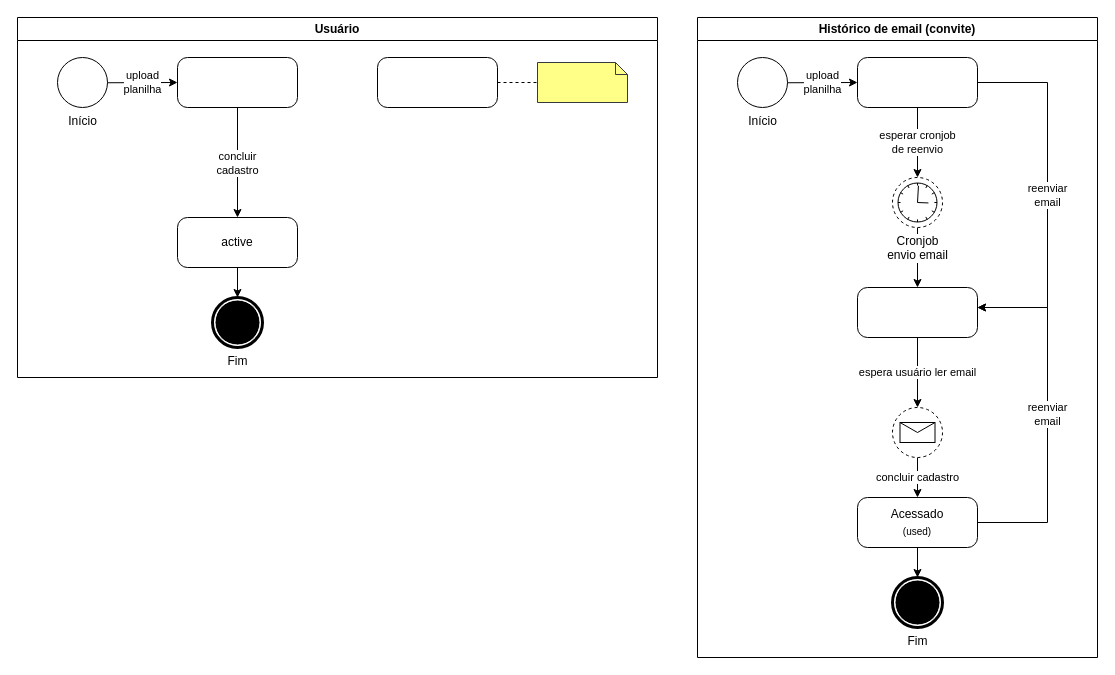
Some shapes in this 1115 by 675 pixel diagram are drawn without their labels. Each missing label, with the centre of its shape:
"Enviado (sent)" belongs at (x=917, y=312).
"inactive" belongs at (x=437, y=82).
"Na fila (queued)" belongs at (x=917, y=82).
"não é usado" belongs at (x=582, y=82).
"register" belongs at (x=237, y=82).
